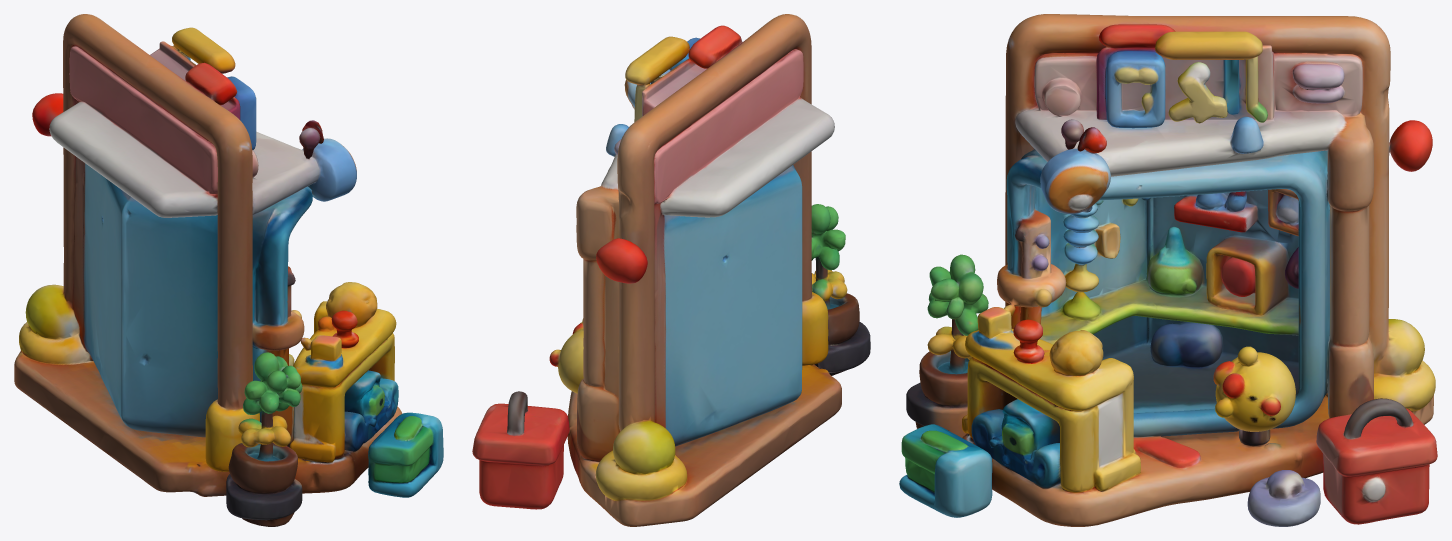
The model's file is building-toyshop.glb.
3 renders of one model, left to right at view 1: azimuth 30°, elevation 25°; view 2: azimuth 150°, elevation 25°; view 3: azimuth 270°, elevation 25°, orthographic. The views are drawn at different scales.
Visible parts, largest first — view 1: tripo_node_4e451642-3ee2-4924-b21f-0193d5aec132; view 2: tripo_node_4e451642-3ee2-4924-b21f-0193d5aec132; view 3: tripo_node_4e451642-3ee2-4924-b21f-0193d5aec132.
Boxes of the visible parts, x1,y1,x2,y2 form: tripo_node_4e451642-3ee2-4924-b21f-0193d5aec132: (14,14,443,526); tripo_node_4e451642-3ee2-4924-b21f-0193d5aec132: (472,14,870,526); tripo_node_4e451642-3ee2-4924-b21f-0193d5aec132: (899,14,1437,526).
Bounding box in the file's own units: 3.28 × 5 × 5.51.
1 material, 1 textured.
